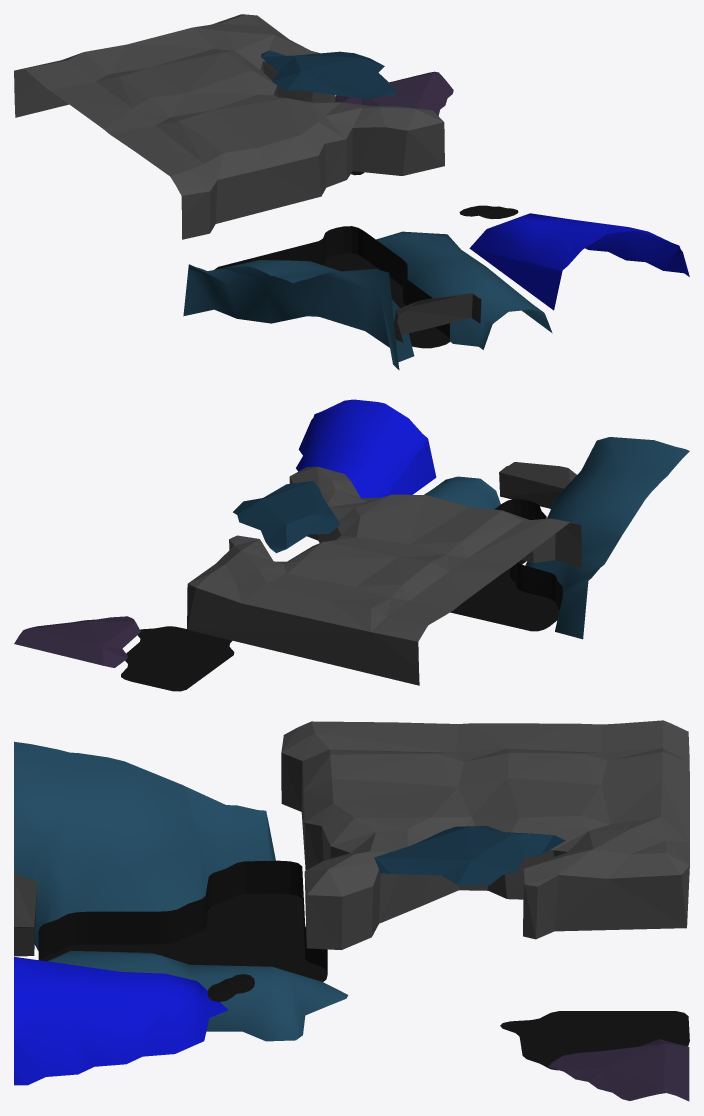
Rendered from newshb-45.glb.
3 views of the same model, one above another, from view 1: azimuth 30°, elevation 25°; view 2: azimuth 150°, elevation 25°; view 3: azimuth 270°, elevation 25° (orthographic). The views are drawn at different scales.
Parts seen in each view (by area): view 1: newshb-45; view 2: newshb-45; view 3: newshb-45.
Boxes of the visible parts, x1,y1,x2,y2 form: newshb-45: (14,14,689,370); newshb-45: (14,399,689,691); newshb-45: (14,720,689,1101).
Bounding box in the file's own units: 2 × 0.6446 × 2.33.
